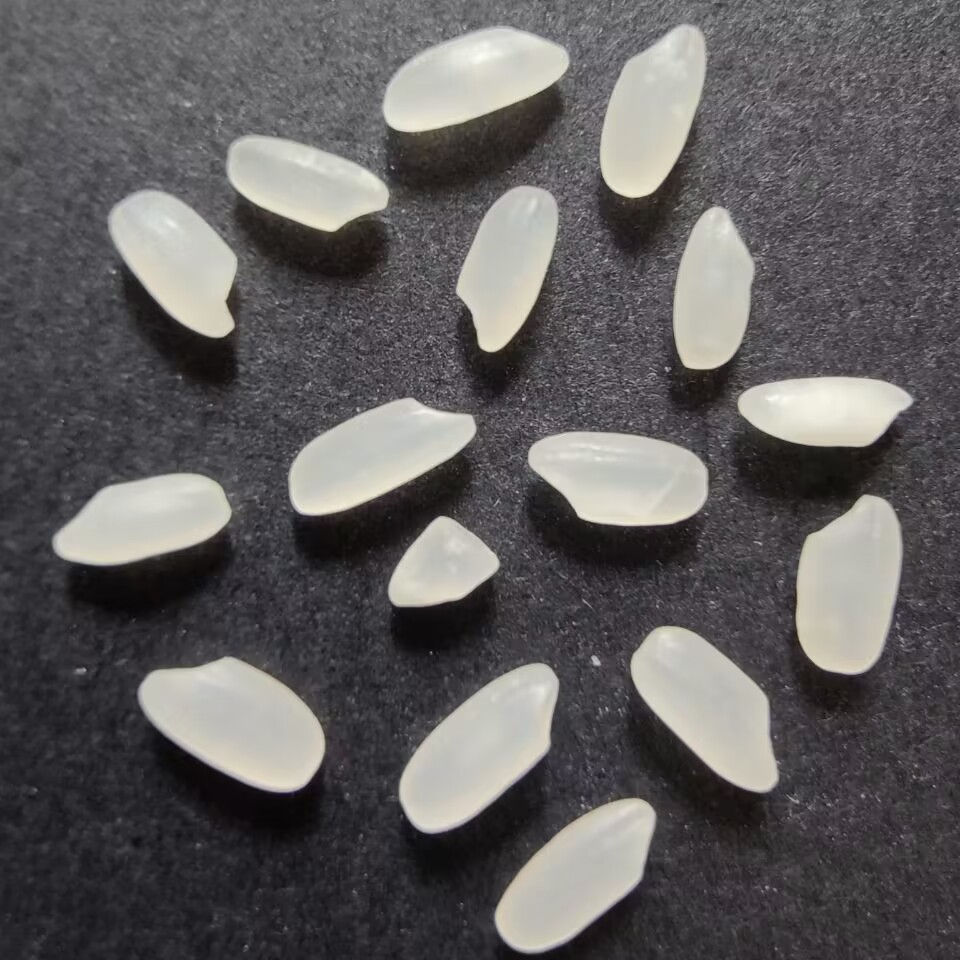broken: (386, 515, 500, 609)
rice: (392, 657, 561, 835), (133, 653, 328, 798), (625, 622, 781, 803), (492, 793, 658, 957), (376, 19, 570, 137), (286, 397, 477, 516), (791, 486, 908, 679), (104, 187, 244, 343), (590, 23, 712, 202), (448, 182, 565, 356), (525, 427, 712, 530), (47, 468, 231, 568), (222, 134, 393, 233), (667, 203, 763, 378), (733, 372, 916, 448)
